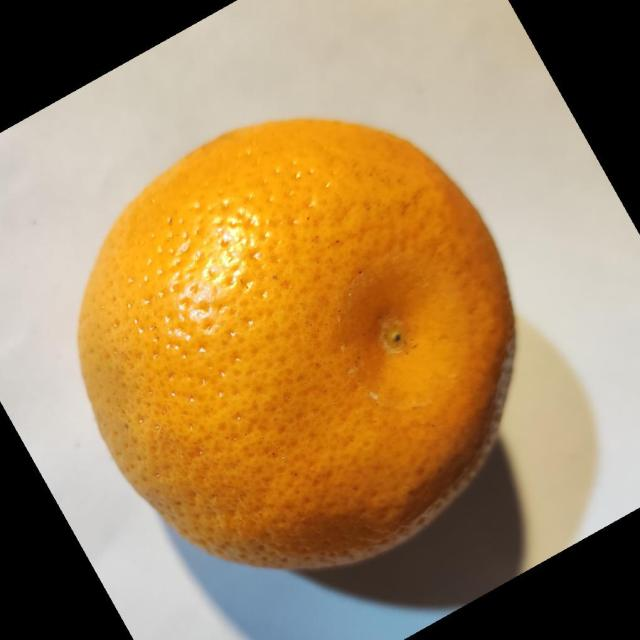fresh orange: (76, 116, 518, 572)
